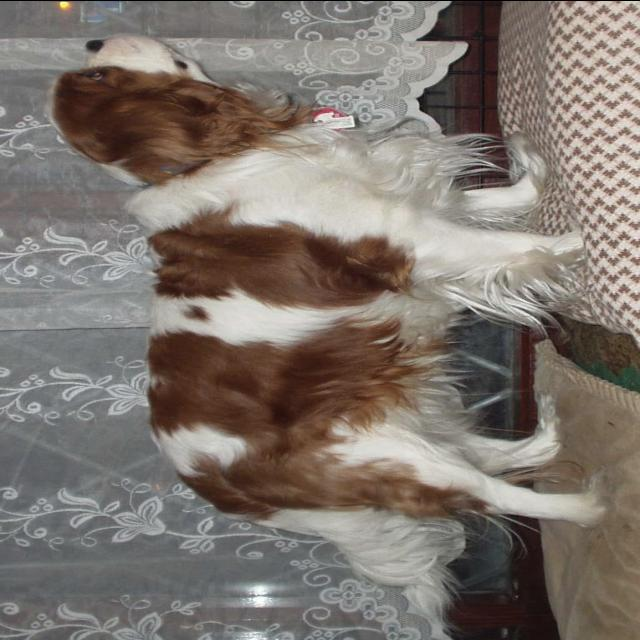blenheim_spaniel: (49, 34, 608, 620)
